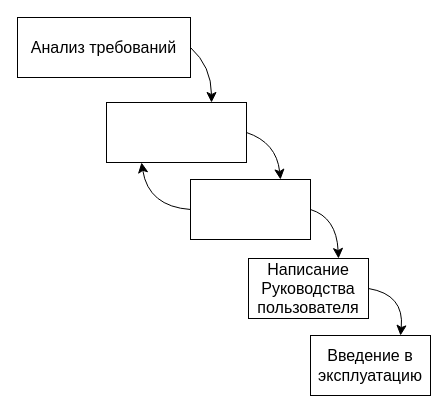
Image size: 448x413. Some labels were removed from this diagram. The shapes that lost their labels are listed below. From the top down, each one's centre as x and y in pixels, then its label:
At [176,132]: "Проектирование".
At [250,209]: "Тестирование".
